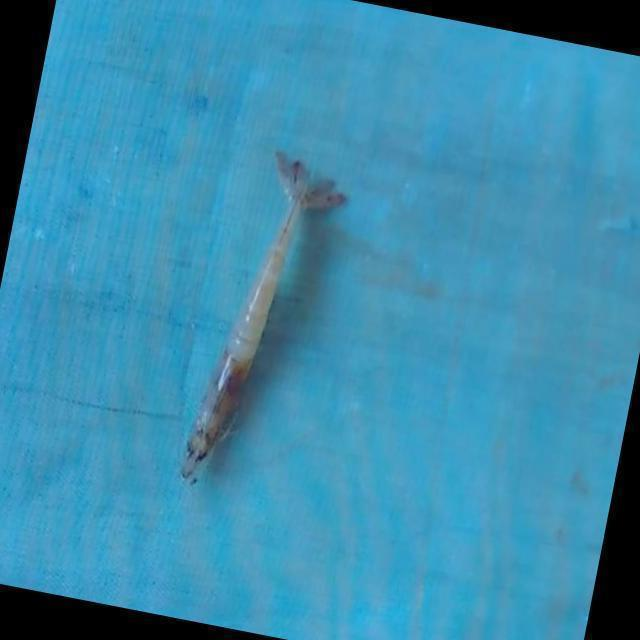shrimp: (180, 152, 345, 482)
